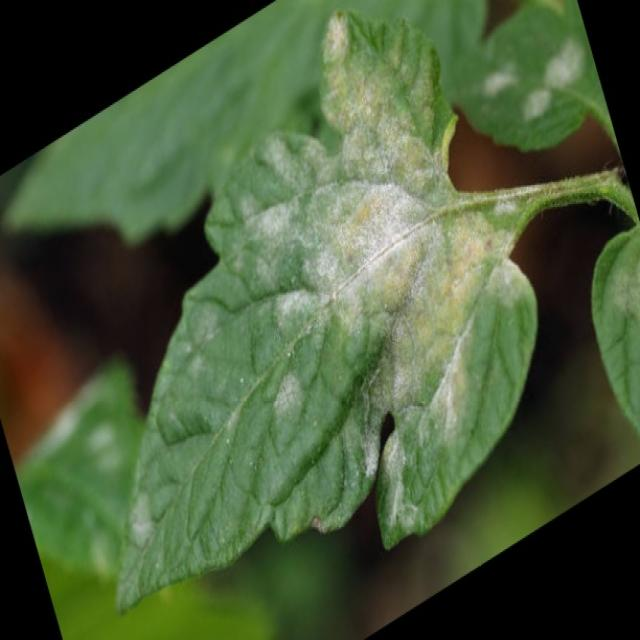Powdery Mildew: (157, 44, 584, 517)
